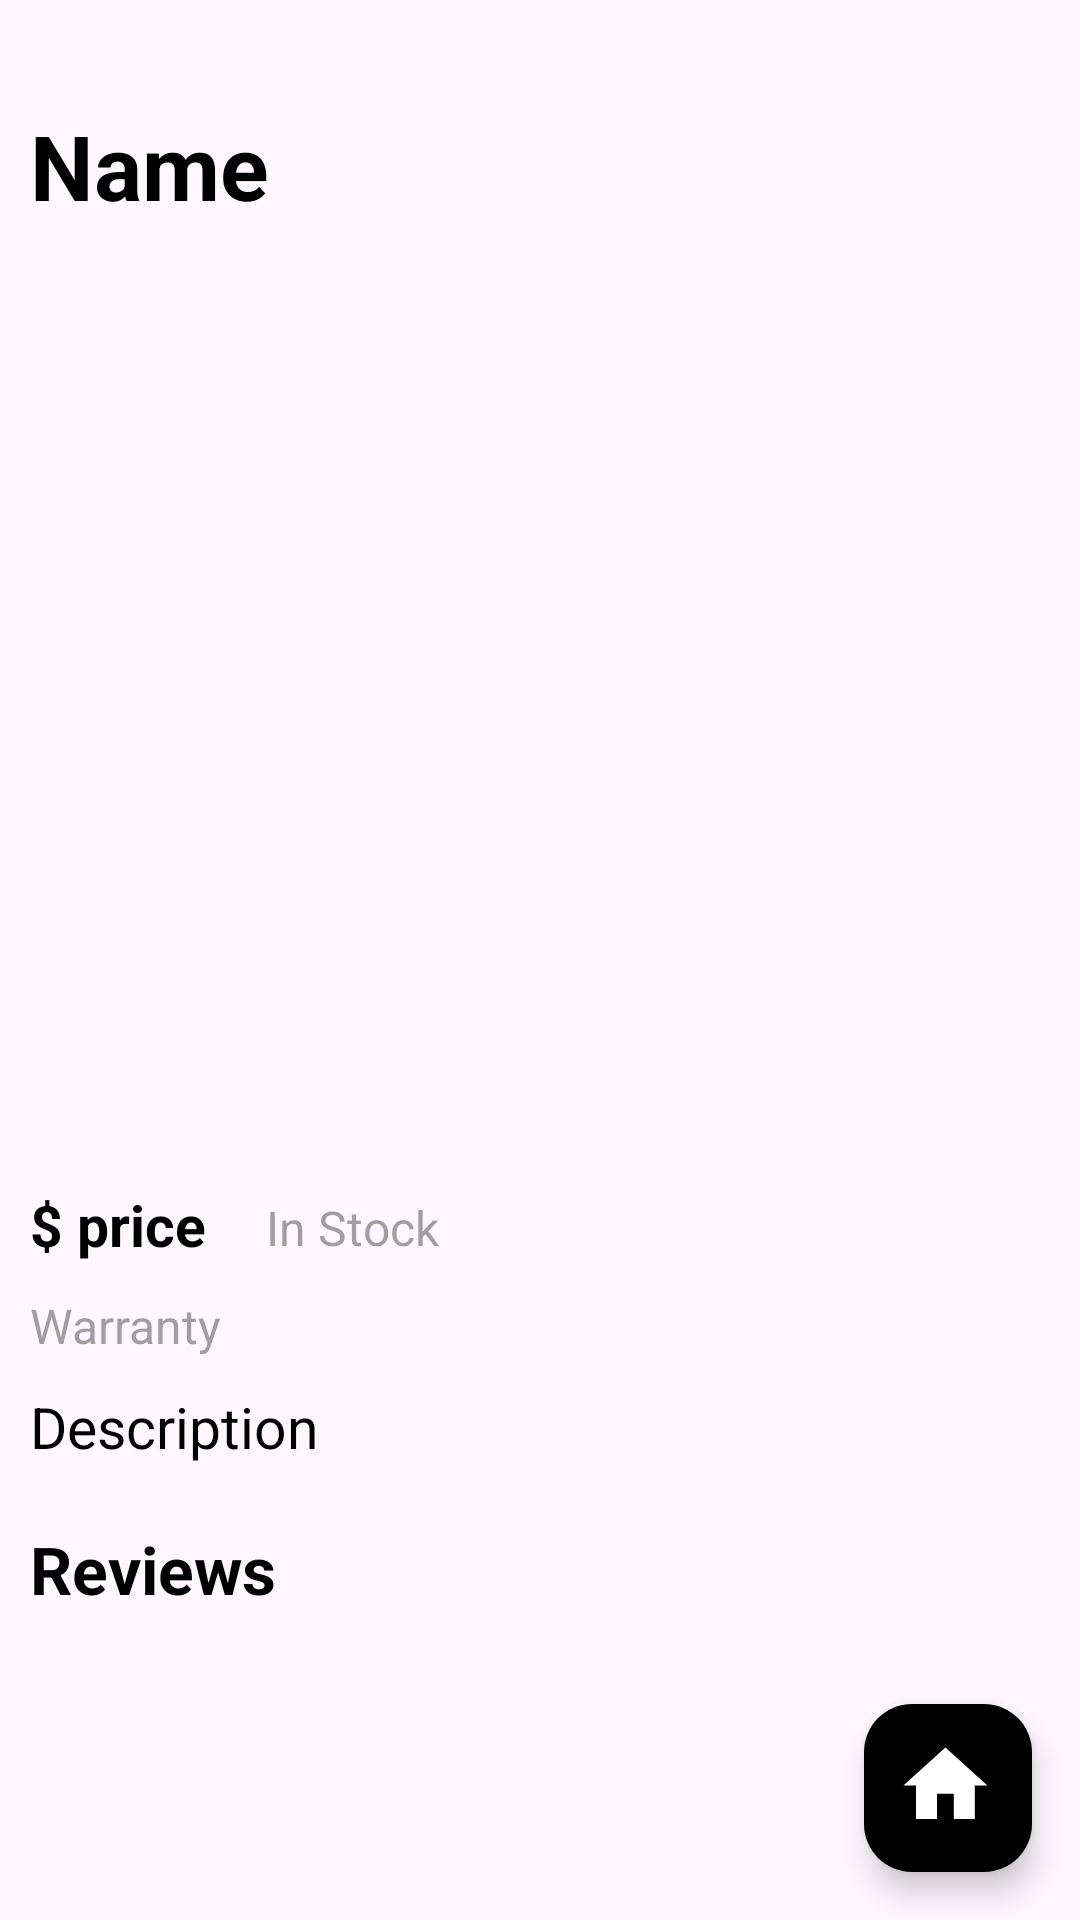

Icon bounding boxes for this 1080 x 1920 phone screenshot, format {"x1": x1, "y1": y1, "x2": x2, "y2": y2}:
home: {"x1": 864, "y1": 1704, "x2": 1032, "y2": 1872}
